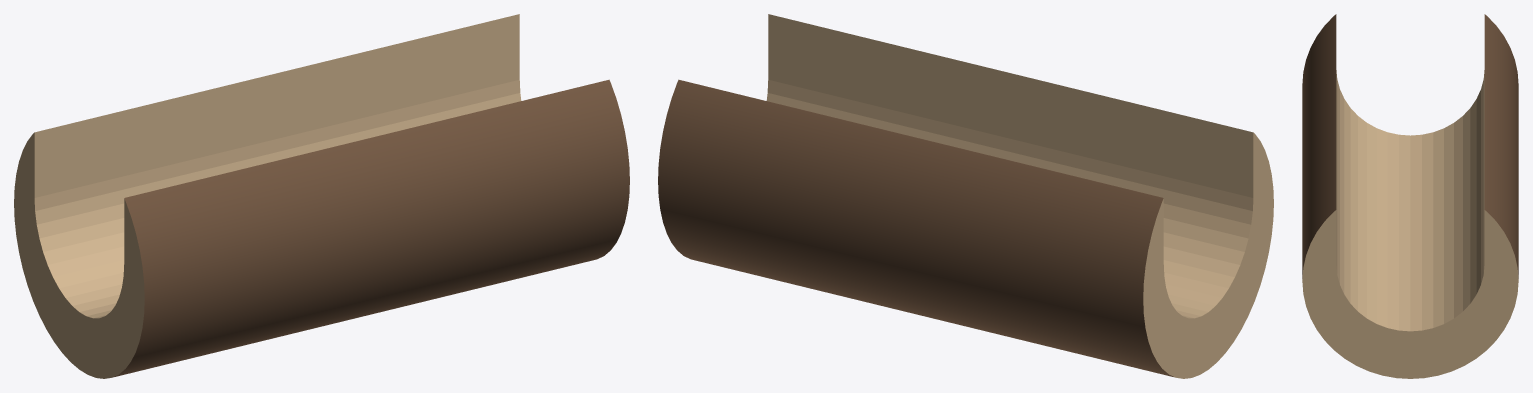
The model's file is SM_RawLog_75_Gutter.fbx.
3 views of the same model, side by side, from view 1: azimuth 30°, elevation 25°; view 2: azimuth 150°, elevation 25°; view 3: azimuth 270°, elevation 25° (orthographic). The views are drawn at different scales.
Parts seen in each view (by area): view 1: RawLog_75_Gutter; view 2: RawLog_75_Gutter; view 3: RawLog_75_Gutter.
Part boxes in pixels (box(x1,y1,x2,y2)): RawLog_75_Gutter: box(14, 14, 629, 378); RawLog_75_Gutter: box(658, 14, 1273, 378); RawLog_75_Gutter: box(1302, 14, 1518, 378).
Size of what is drawn, in the model's own units: 0.75 by 0.302 by 0.35.
